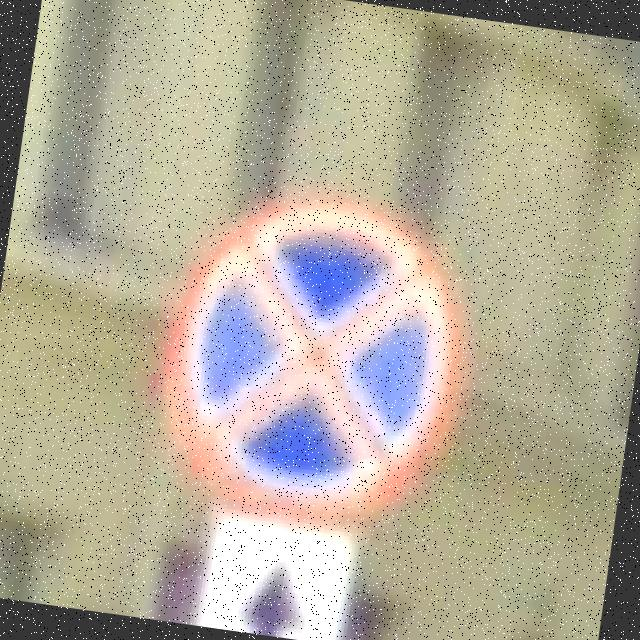Zakaz zatrzymywania sie: (143, 175, 489, 543)
